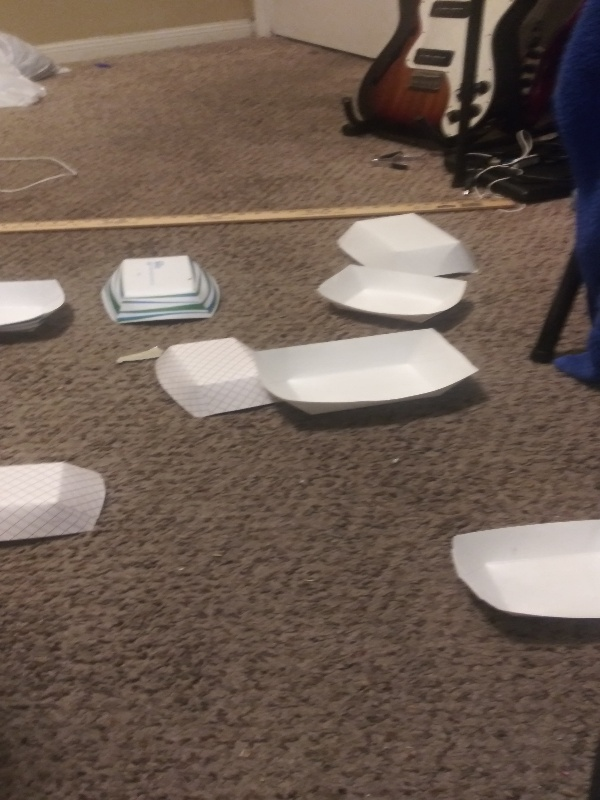plate: (252, 327, 485, 425), (448, 515, 600, 637), (152, 333, 277, 423), (332, 212, 489, 281), (1, 457, 109, 552), (313, 263, 472, 327), (96, 251, 224, 328), (1, 271, 71, 343)
